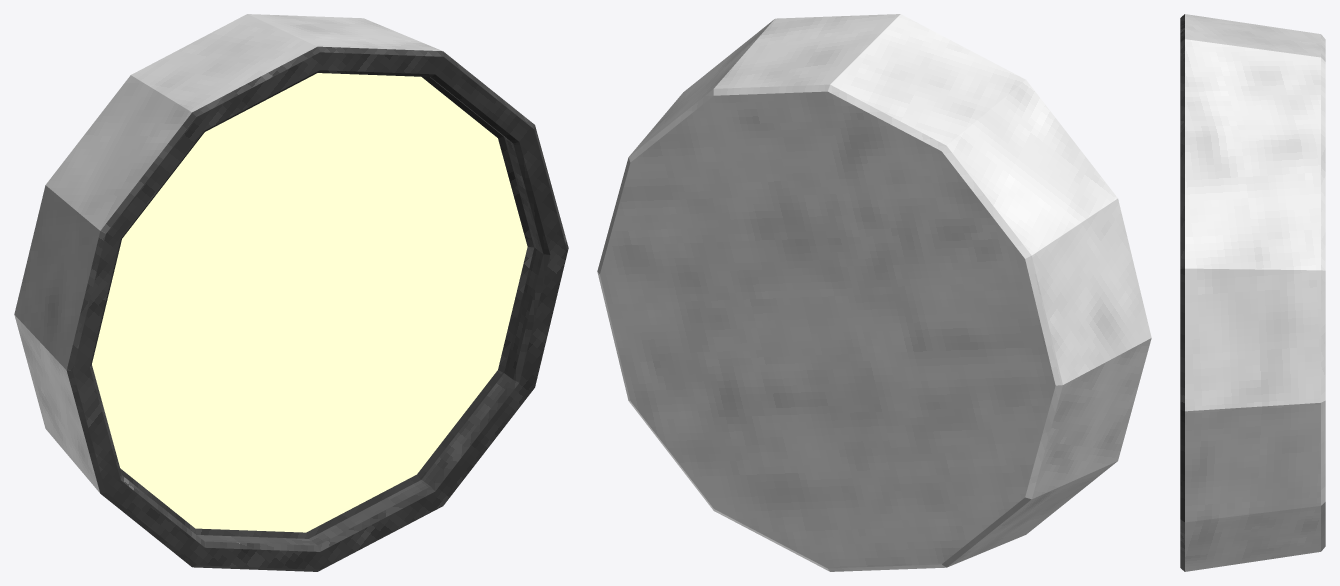
The model's file is round_monitor.glb.
3 renders of one model, left to right at view 1: azimuth 30°, elevation 25°; view 2: azimuth 150°, elevation 25°; view 3: azimuth 270°, elevation 25°, orthographic. The views are drawn at different scales.
Visible parts, largest first — view 1: Cylinder; view 2: Cylinder; view 3: Cylinder.
Boxes of the visible parts, left/top/right/bottom form: Cylinder: left=14, top=14, right=568, bottom=571; Cylinder: left=597, top=14, right=1151, bottom=571; Cylinder: left=1180, top=14, right=1325, bottom=571.
Size of the model in its own units: 0.3491 by 0.3491 by 0.0908.
3 materials, 2 textured.
